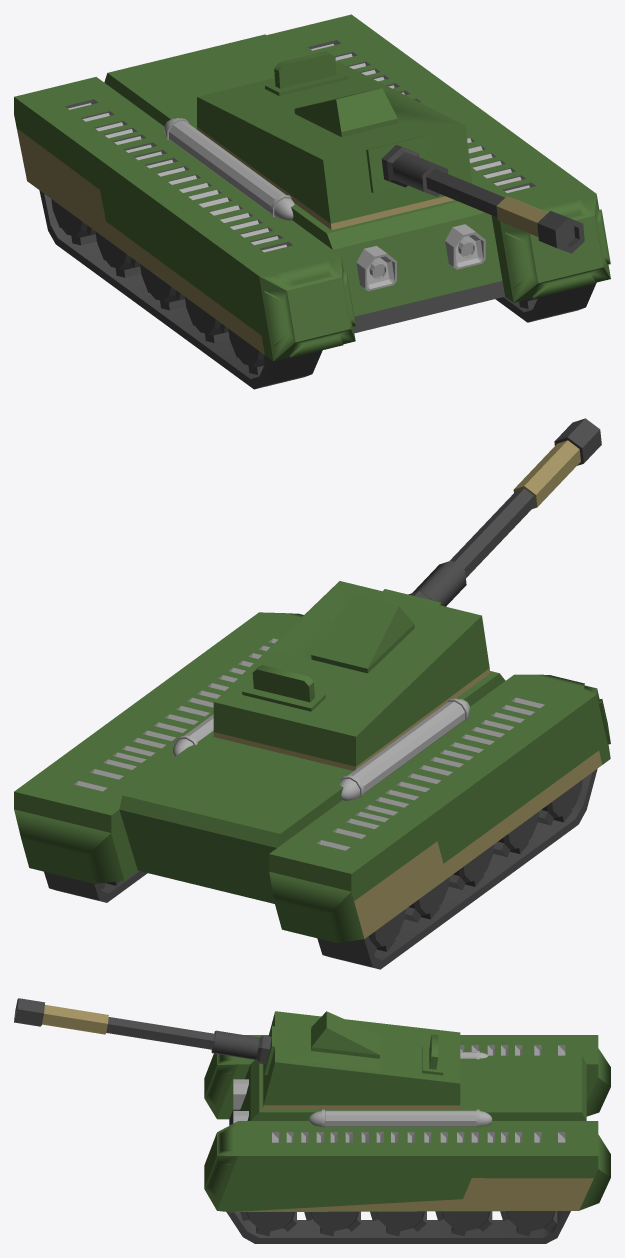
Rendered from VRH Tank Fix.fbx.
3 renders of one model, top to bottom at view 1: azimuth 30°, elevation 25°; view 2: azimuth 150°, elevation 25°; view 3: azimuth 270°, elevation 25°, orthographic. The views are drawn at different scales.
Visible parts, largest first — view 1: Body, Head, Sides, cannon, Cylinder312, Cylinder313, Cylinder311, Cylinder314, Cylinder315; view 2: Body, Head, cannon, Sides, Cylinder314, Cylinder313, Cylinder312, Cylinder315, Cylinder311; view 3: Body, Head, Sides, cannon, Cylinder310, Cylinder309, Cylinder308, Cylinder307, Cylinder306.
Boxes of the visible parts, bbox=[...] form: Body: bbox=[14, 14, 610, 389]; Head: bbox=[197, 51, 472, 230]; Sides: bbox=[16, 128, 264, 354]; cannon: bbox=[381, 145, 584, 253]; Cylinder312: bbox=[95, 231, 141, 277]; Cylinder313: bbox=[140, 264, 185, 310]; Cylinder311: bbox=[51, 199, 96, 245]; Cylinder314: bbox=[185, 297, 229, 343]; Cylinder315: bbox=[228, 328, 267, 374]; Body: bbox=[14, 612, 610, 969]; Head: bbox=[213, 581, 490, 770]; cannon: bbox=[408, 418, 601, 606]; Sides: bbox=[354, 750, 602, 938]; Cylinder314: bbox=[493, 811, 539, 857]; Cylinder313: bbox=[448, 844, 494, 889]; Cylinder312: bbox=[404, 877, 449, 922]; Cylinder315: bbox=[538, 780, 582, 825]; Cylinder311: bbox=[369, 909, 405, 953]; Body: bbox=[204, 1035, 610, 1243]; Head: bbox=[262, 1011, 460, 1109]; Sides: bbox=[260, 1178, 593, 1210]; cannon: bbox=[14, 998, 271, 1064]; Cylinder310: bbox=[500, 1211, 557, 1236]; Cylinder309: bbox=[435, 1211, 492, 1236]; Cylinder308: bbox=[370, 1211, 426, 1236]; Cylinder307: bbox=[304, 1211, 360, 1236]; Cylinder306: bbox=[240, 1212, 296, 1236].
Bounding box in the file's own units: 1262 × 884 × 2591.
